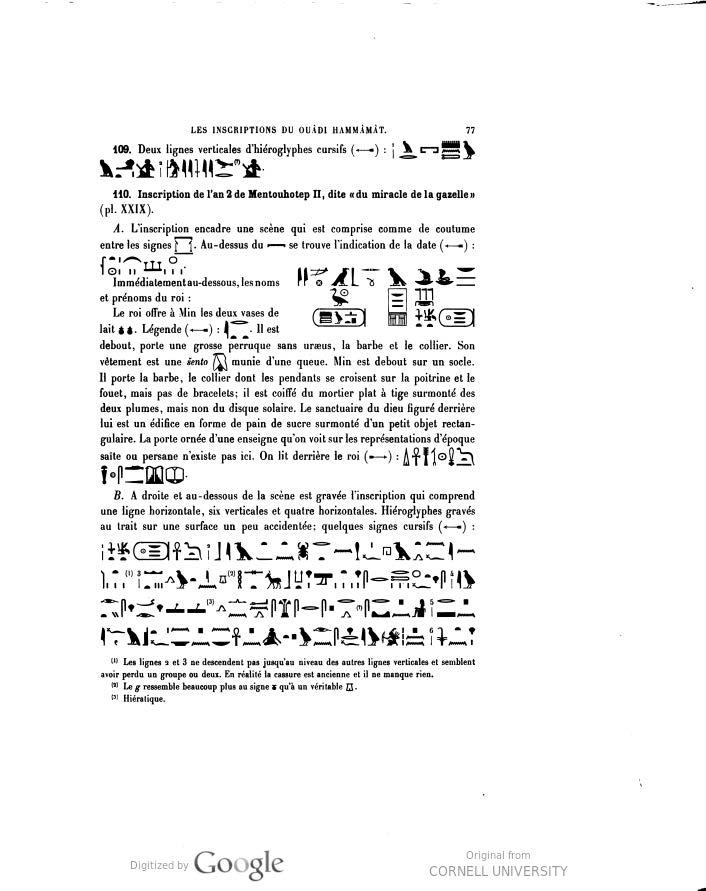circle: (306, 295, 382, 340), (131, 537, 178, 574), (430, 301, 486, 329)
